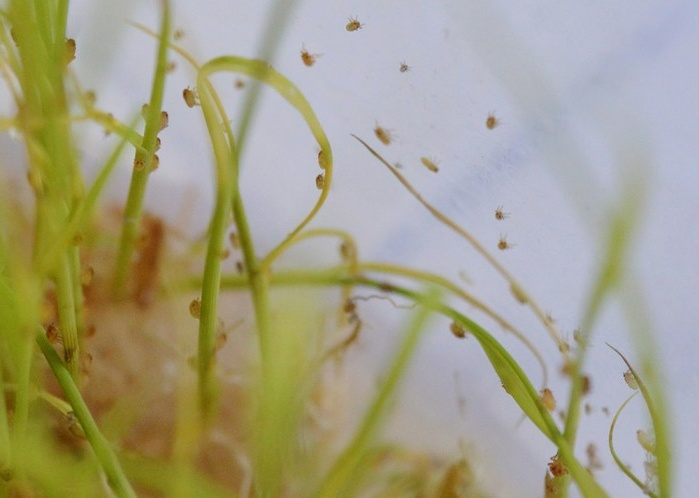Brown_hopper: (60, 410, 90, 441), (543, 454, 569, 485), (38, 321, 65, 347), (535, 388, 561, 415), (369, 121, 394, 147), (62, 35, 80, 70), (297, 46, 322, 71), (337, 15, 370, 32), (179, 86, 200, 112), (446, 323, 472, 342), (130, 156, 150, 175), (313, 148, 327, 174), (187, 298, 203, 319), (494, 236, 515, 252), (486, 113, 501, 135), (314, 172, 327, 194), (493, 205, 503, 224)
